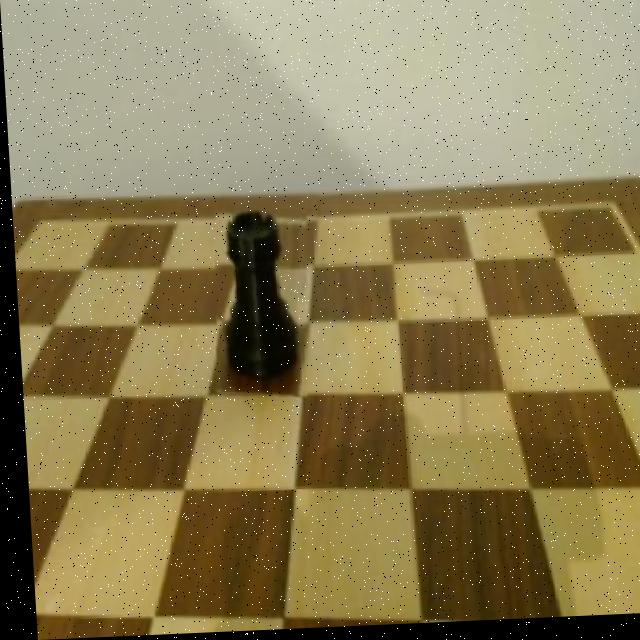black-queen: (205, 201, 310, 401)
